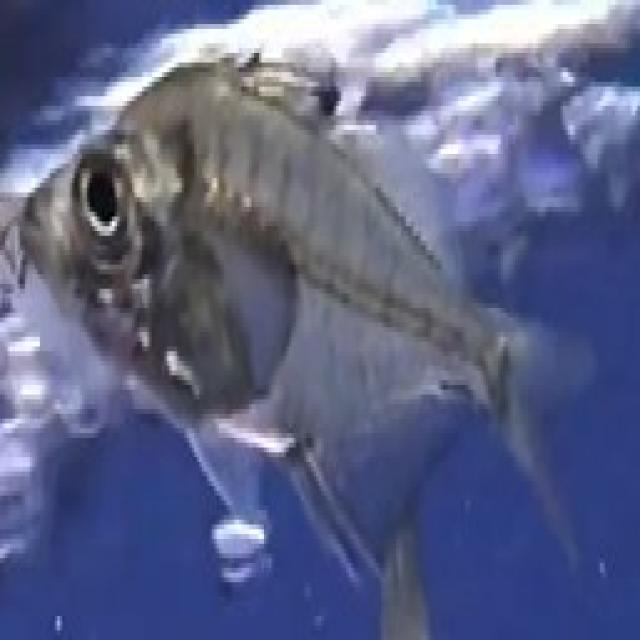Glass-Perchlet: (0, 16, 640, 614)
